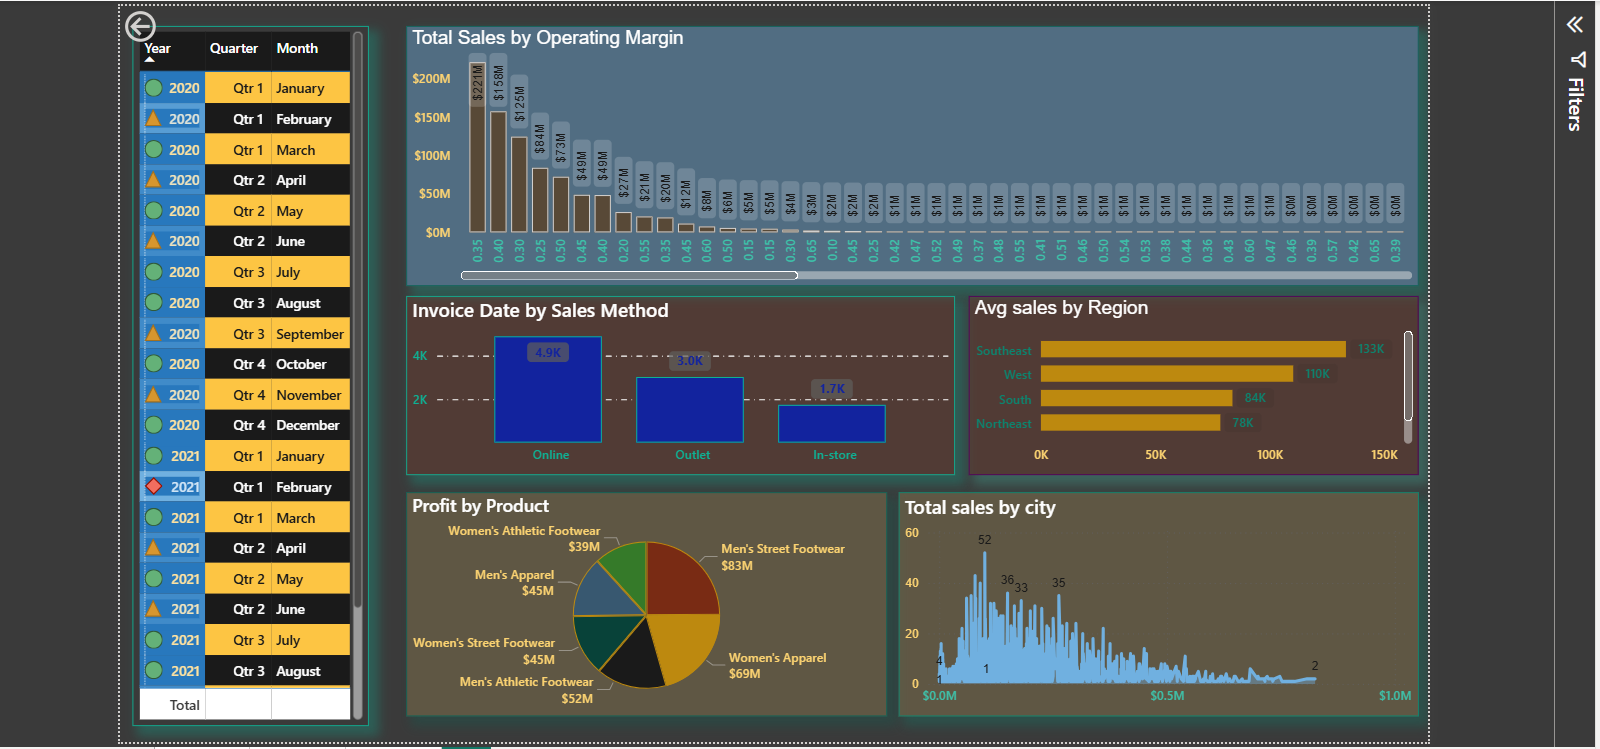

The page's visual inventory and layout, read from the dashboard file:
{"tool":"powerbi","page":{"name":"Page 3","canvas":[1280,720],"ordinal":2},"visuals":[{"type":"lineClusteredColumnComboChart","title":"Invoice Date by Sales Method","fields":{"Category":["Data Sales Adidas.Sales Method"],"Y":["CountNonNull(Data Sales Adidas.Invoice Date)"]},"box":[280,283.7,536.8,174.9],"z":0},{"type":"tableEx","fields":{"Values":["Data Sales Adidas.Invoice Date.Variation.Date Hierarchy.Year","Data Sales Adidas.Invoice Date.Variation.Date Hierarchy.Quarter","Data Sales Adidas.Invoice Date.Variation.Date Hierarchy.Month"]},"box":[12.2,19.6,231.1,684.8],"z":1000},{"type":"actionButton","box":[0,0,100,40],"z":2000},{"type":"clusteredColumnChart","title":" Total Sales by Operating Margin","fields":{"Category":["Data Sales Adidas.Operating Margin"],"Y":["Sum(Data Sales Adidas.Total Sales)"]},"box":[280,19.6,990.5,254.3],"z":3000},{"type":"pieChart","title":" Profit by Product","fields":{"Category":["Data Sales Adidas.Product"],"Y":["Sum(Data Sales Adidas.Operating Profit)"]},"box":[280,475.7,470.8,218.9],"z":4000},{"type":"clusteredBarChart","fields":{"Category":["Data Sales Adidas.Region"],"Y":["Data Sales Adidas.Avg sales"]},"box":[830.3,283.7,440.2,174.9],"z":5000},{"type":"areaChart","title":" Total sales by city","fields":{"Category":["Data Sales Adidas.Total Sales"],"Y":["CountNonNull(Data Sales Adidas.City)"]},"box":[761.8,475.7,508.7,218.9],"z":6000}]}

Visuals, with their boxes on the page's 1280x720 design canvas (x1, y1, x2, y2). These are canvas units, not pixel positions in the 1600x749 screenshot, which may show the page scaled, cropped or inside an application window:
"Invoice Date by Sales Method" lineClusteredColumnComboChart: bbox(280, 284, 817, 459)
tableEx - Data Sales Adidas.Invoice Date.Variation.Date Hierarchy.Year x Data Sales Adidas.Invoice Date.Variation.Date Hierarchy.Quarter: bbox(12, 20, 243, 704)
actionButton: bbox(0, 0, 100, 40)
" Total Sales by Operating Margin" clusteredColumnChart: bbox(280, 20, 1270, 274)
" Profit by Product" pieChart: bbox(280, 476, 751, 695)
clusteredBarChart - Data Sales Adidas.Region x Data Sales Adidas.Avg sales: bbox(830, 284, 1270, 459)
" Total sales by city" areaChart: bbox(762, 476, 1270, 695)
